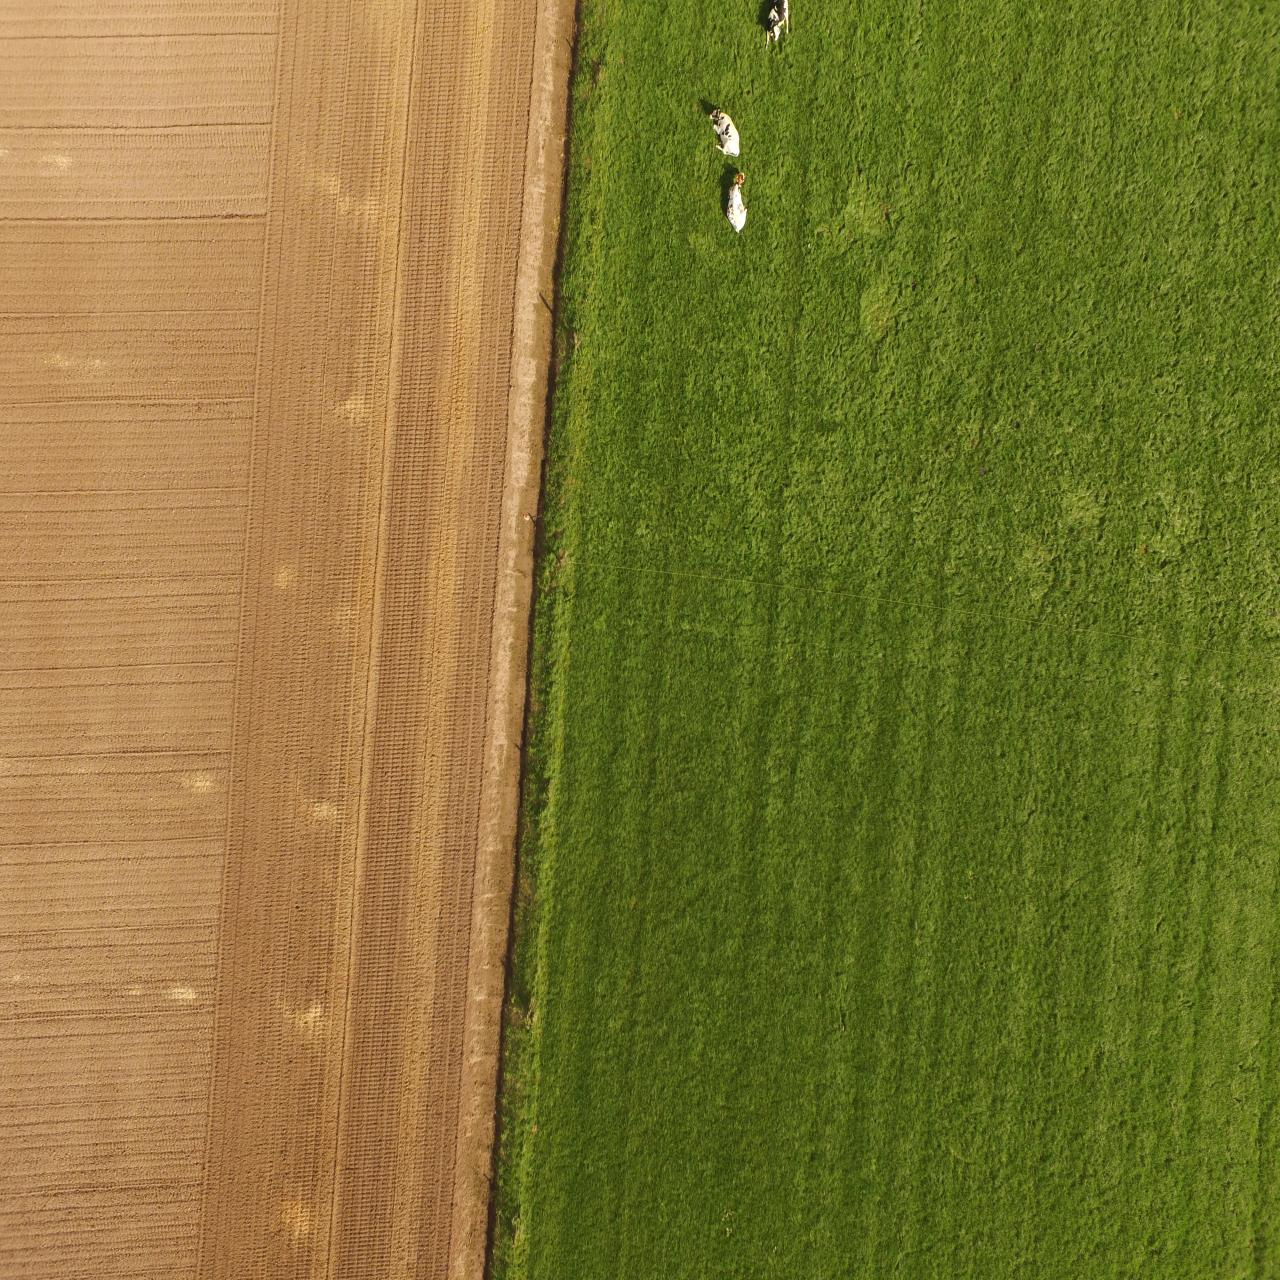cow: (709, 107, 742, 158), (762, 0, 791, 52), (726, 170, 748, 233)
